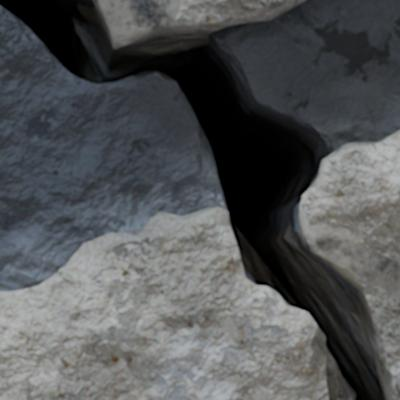brick: (95, 0, 304, 46)
broken_brick: (0, 206, 327, 399), (302, 129, 399, 399)
crack: (0, 0, 398, 399)
